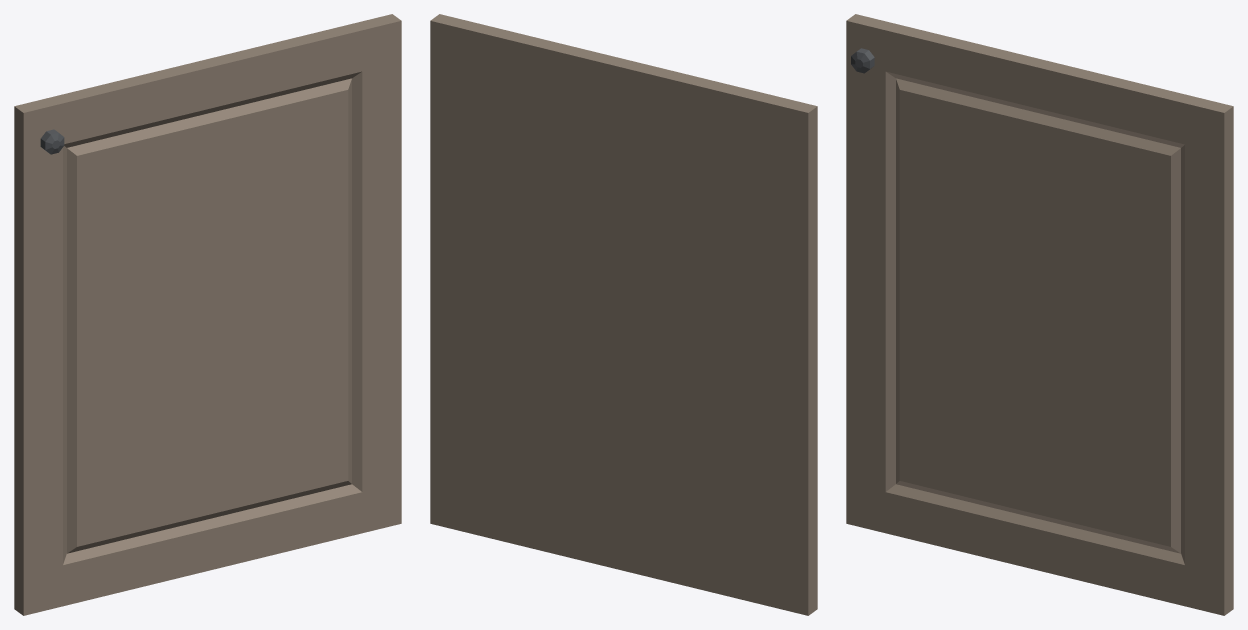
The model's file is Door3_C5_01.fbx.
3 views of the same model, side by side, from view 1: azimuth 30°, elevation 25°; view 2: azimuth 150°, elevation 25°; view 3: azimuth 330°, elevation 25° (orthographic).
Visible parts, largest first — view 1: Door3_C5_01; view 2: Door3_C5_01; view 3: Door3_C5_01.
Part boxes in pixels (x1,y1,x2,y2): Door3_C5_01: (14, 14, 401, 615); Door3_C5_01: (430, 14, 817, 615); Door3_C5_01: (846, 14, 1233, 615).
Bounding box in the file's own units: 59 × 75 × 5.19.
